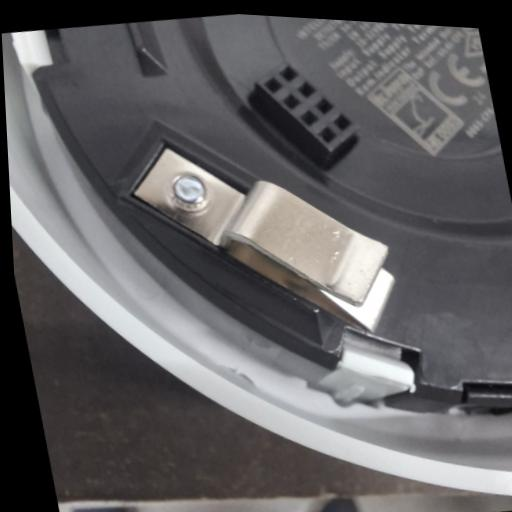yayli: (118, 114, 402, 354)
